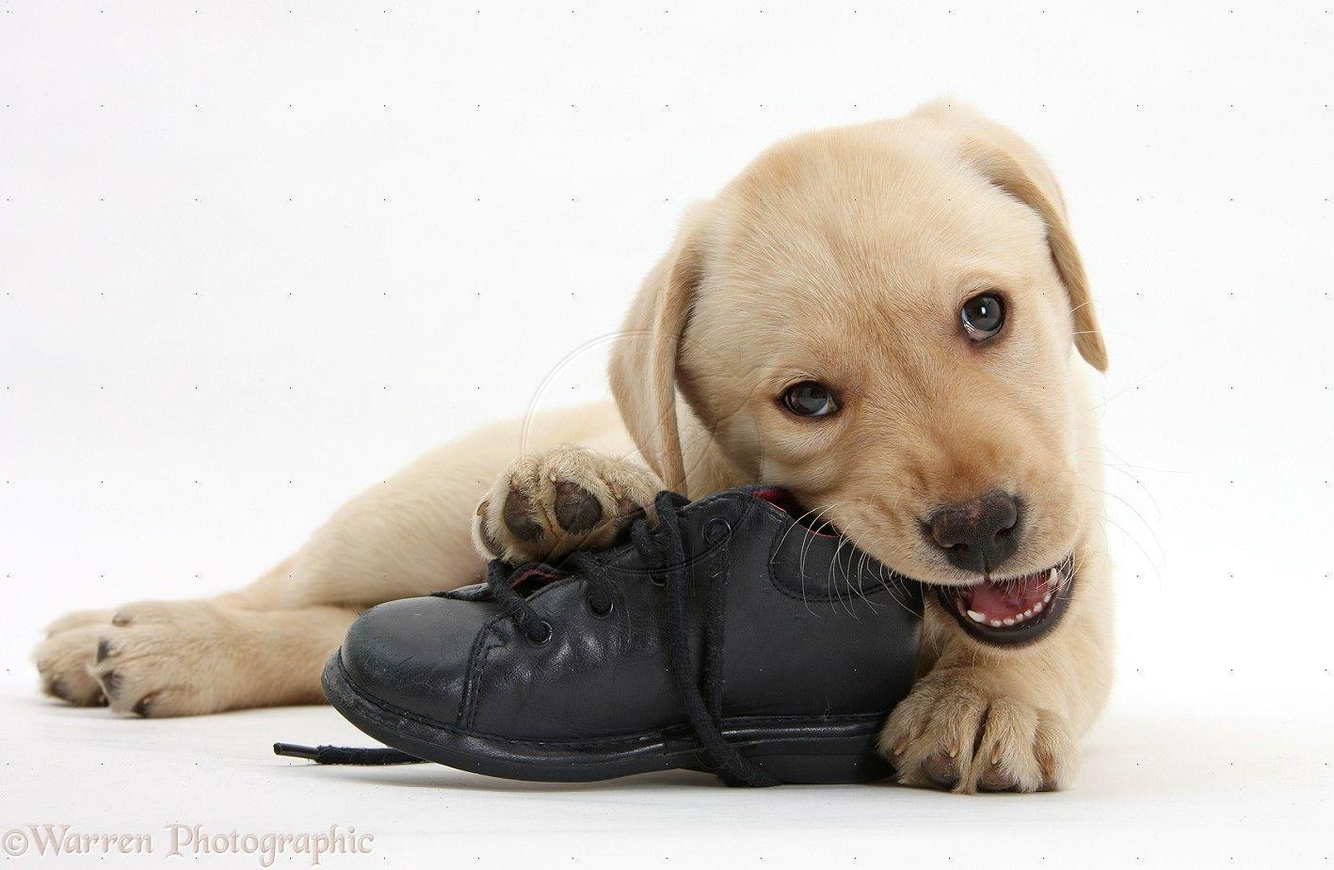puppy-dog: (29, 103, 1121, 795)
